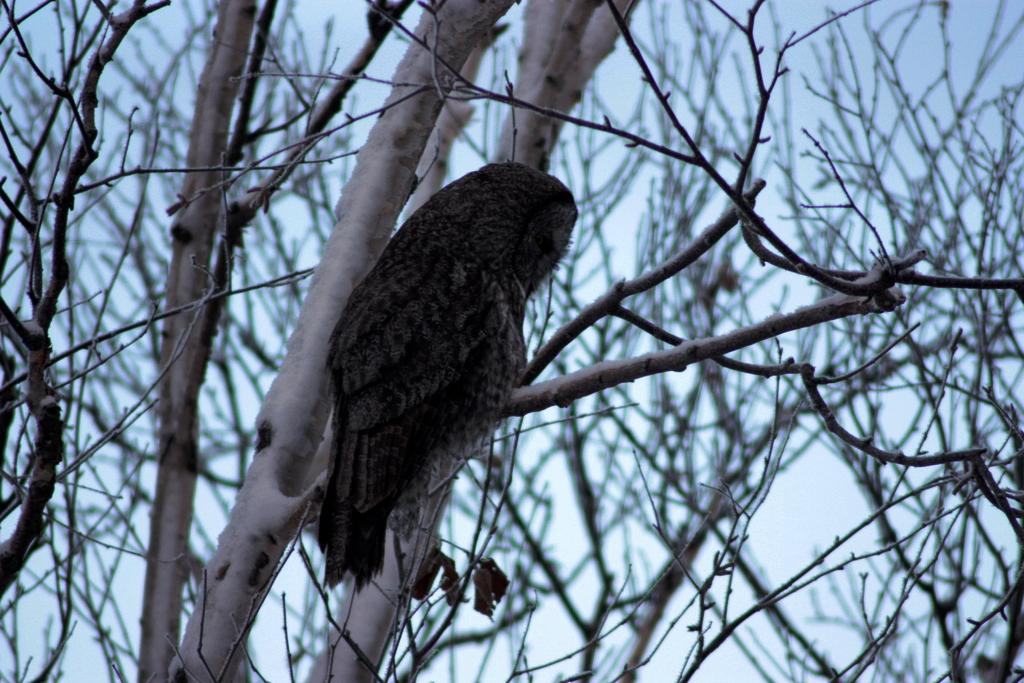Owl: (320, 162, 580, 592)
